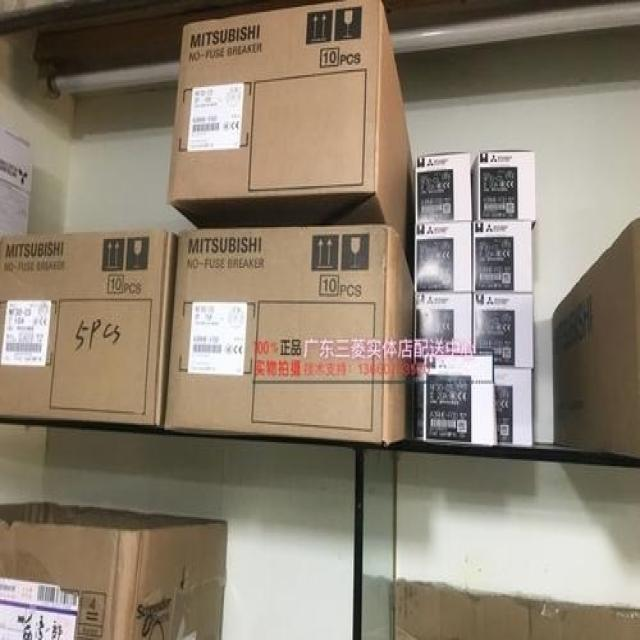box: (167, 0, 416, 283), (161, 224, 416, 447), (2, 230, 178, 427), (3, 498, 229, 638), (551, 216, 639, 459), (392, 581, 639, 638), (424, 354, 498, 444), (474, 287, 535, 368), (469, 151, 536, 223), (472, 219, 533, 293), (413, 219, 472, 291), (416, 151, 473, 221), (1, 123, 34, 236), (415, 290, 472, 353), (494, 362, 534, 448), (414, 353, 428, 441)
